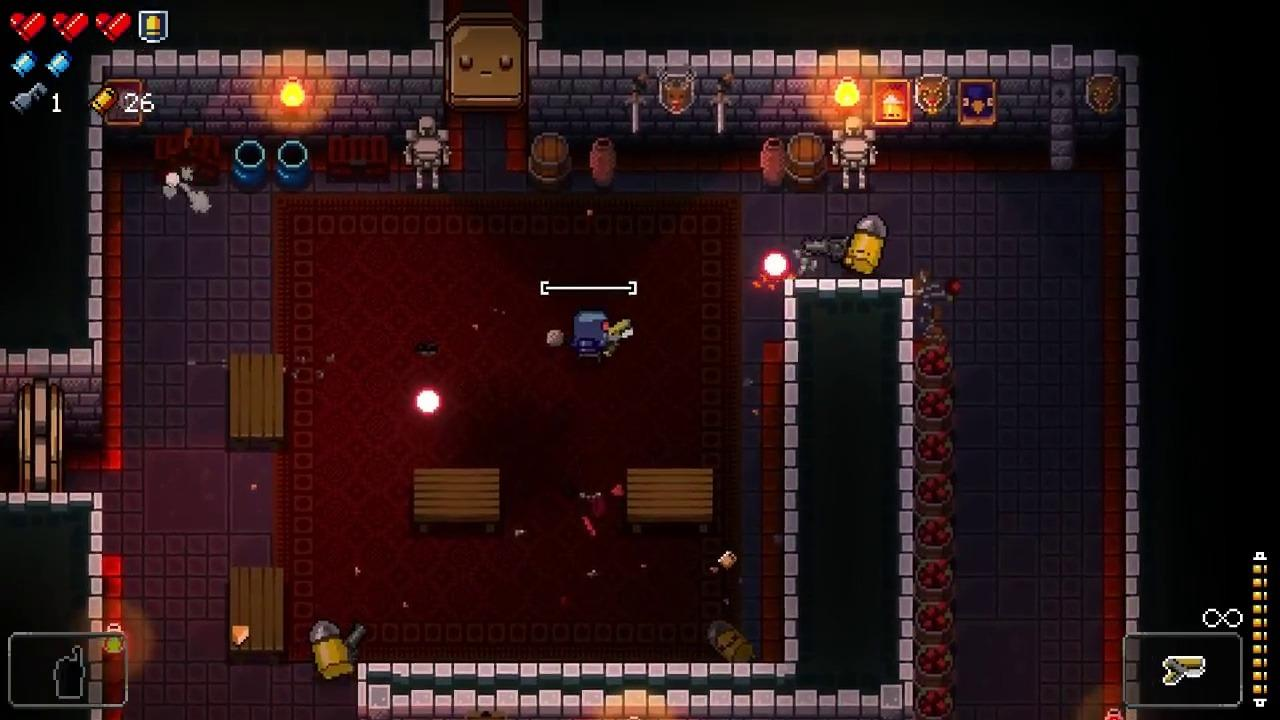bullet: (762, 248, 789, 279), (415, 388, 441, 417)
bullet_kin: (842, 213, 889, 276), (310, 619, 354, 679)
dead_bullet_kin: (706, 620, 757, 663)
locked_door: (444, 12, 528, 110), (18, 376, 63, 492)
player: (572, 309, 610, 362)
table: (413, 468, 500, 533), (627, 467, 713, 532), (229, 352, 284, 450), (230, 566, 282, 664)
